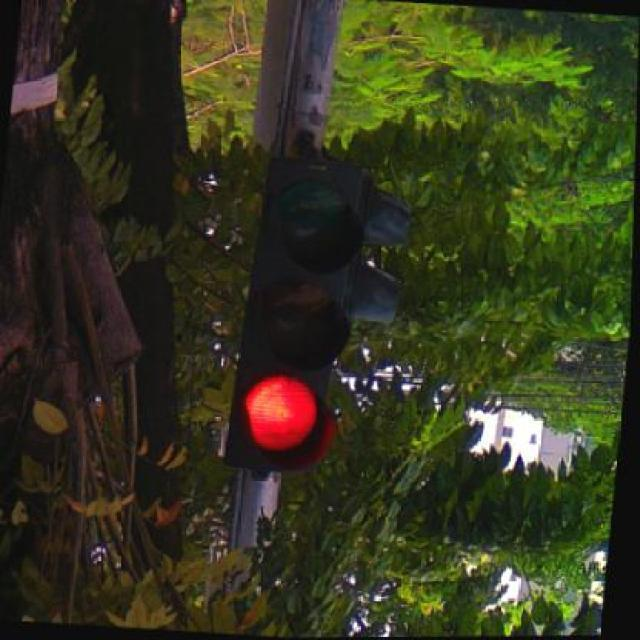traffic light: (224, 157, 412, 475)
